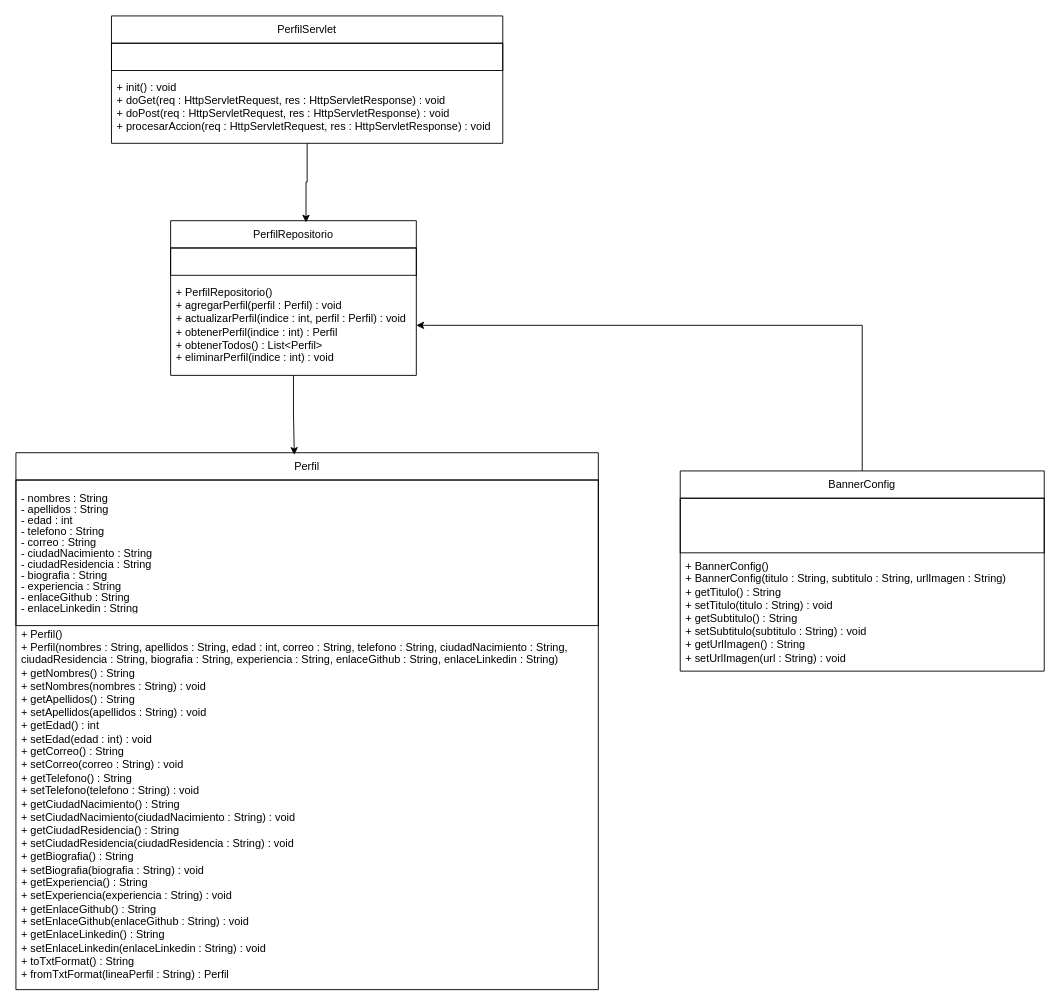
The diagram is 1060 pixels wide and 1006 high, and some of its shapes have lost their labels. The shapes that lost their labels are listed below. From the top down, each one's centre as x and y in pixels, then its label:
At point (307, 56): "- repositorio : PerfilRepositorio".
At point (293, 261): "- perfiles : List<Perfil>".
At point (861, 525): "- titulo : String - subtitulo : String - urlImagen : String".
